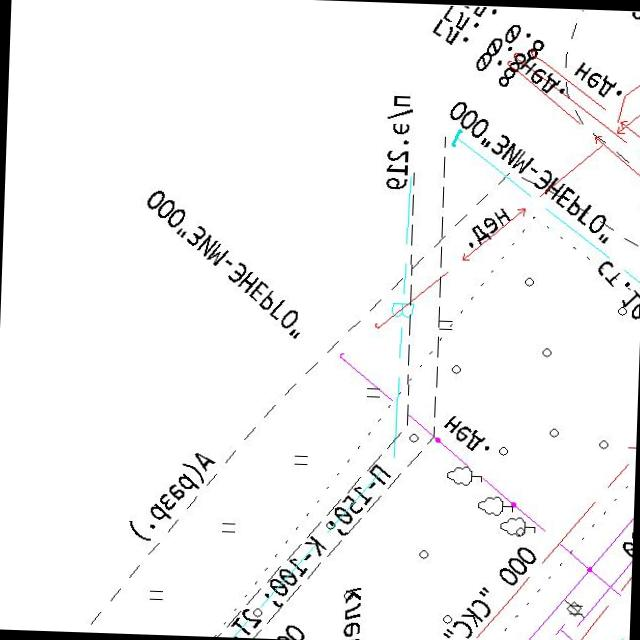asphalt: (193, 450, 216, 473)
tree: (444, 463, 484, 487), (498, 514, 538, 538), (476, 493, 514, 518)
